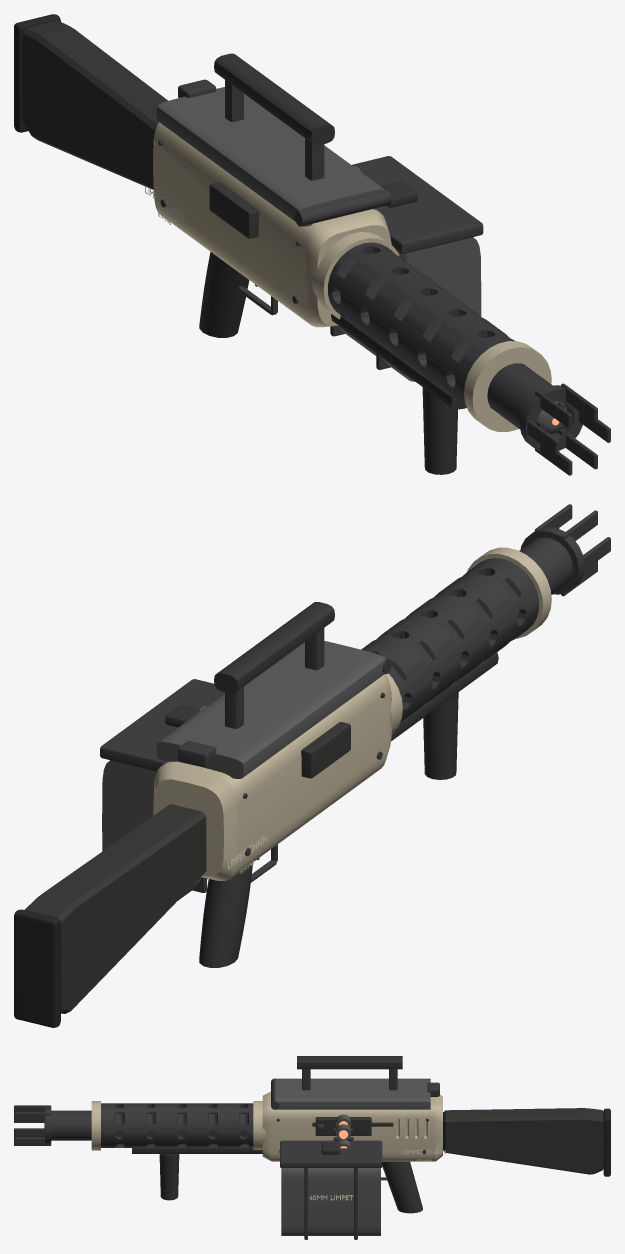
The model's file is limpetchain.glb.
The picture shows the model from 3 angles, top to bottom: view 1: azimuth 30°, elevation 25°; view 2: azimuth 150°, elevation 25°; view 3: azimuth 270°, elevation 25°; orthographic projection. The views are drawn at different scales.
Parts seen in each view (by area): view 1: Body; view 2: Body; view 3: Body.
Boxes of the visible parts, box(x1,y1,x2,y2) form: Body: box(14, 14, 610, 475); Body: box(14, 504, 610, 1027); Body: box(14, 1056, 610, 1239).
Bounding box in the file's own units: 0.199 × 0.269 × 0.96.
